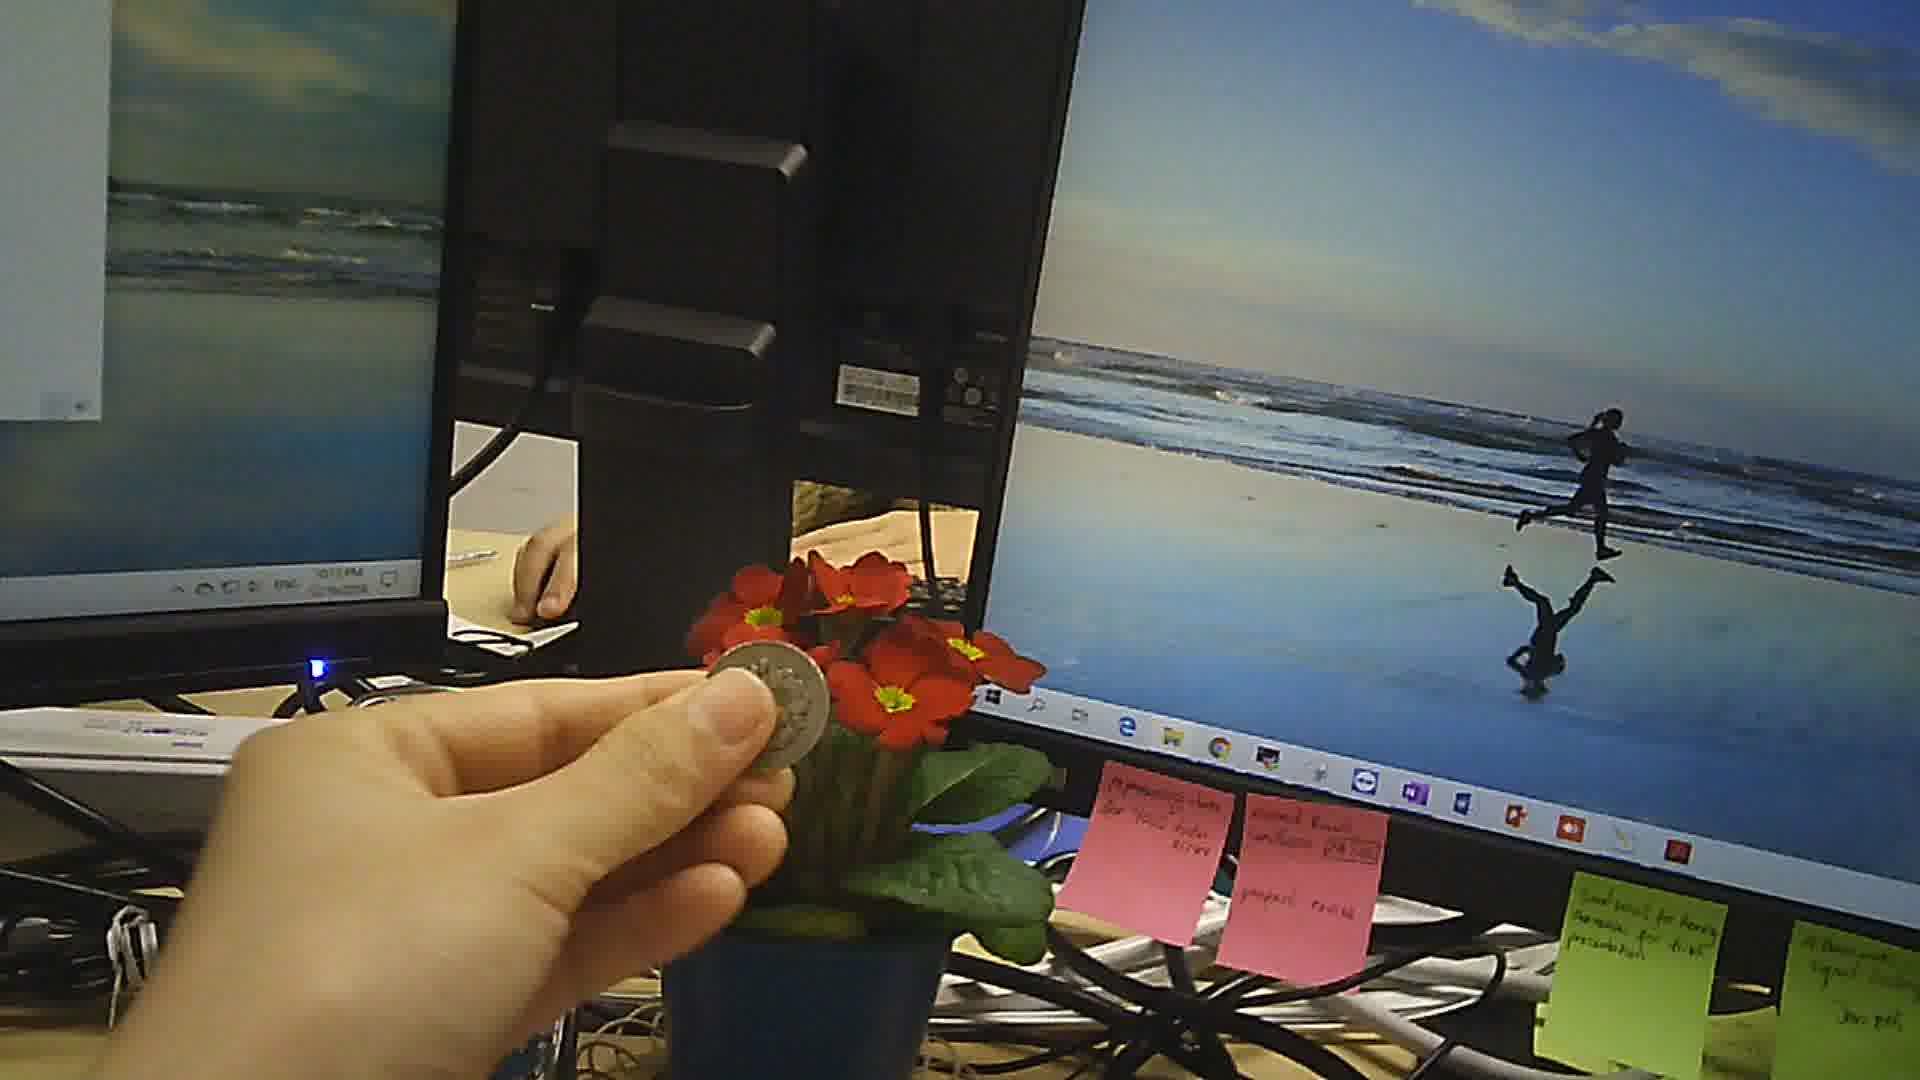100 Yen: (705, 640, 829, 771)
